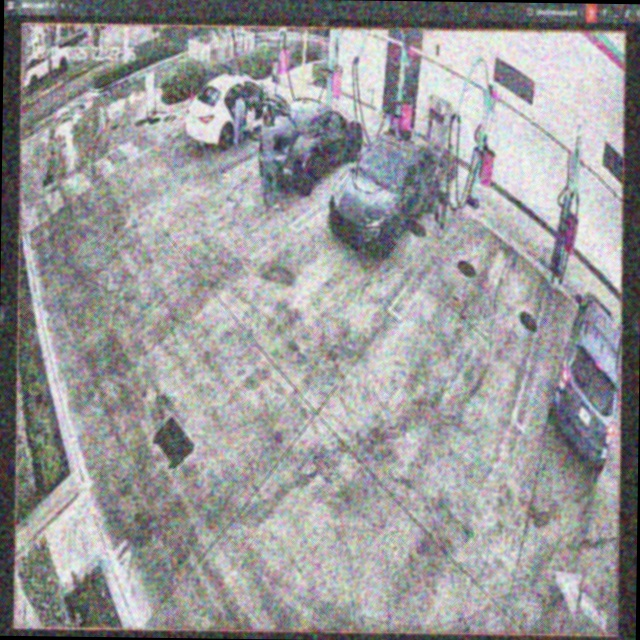Car: (329, 126, 446, 256), (260, 93, 363, 193), (183, 71, 289, 154)
